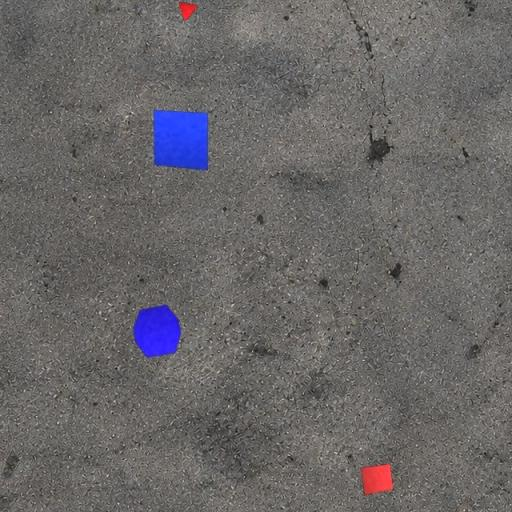BLUE_SQUARE: (153, 110, 209, 170)
RED_SQUARE: (360, 463, 394, 496)
